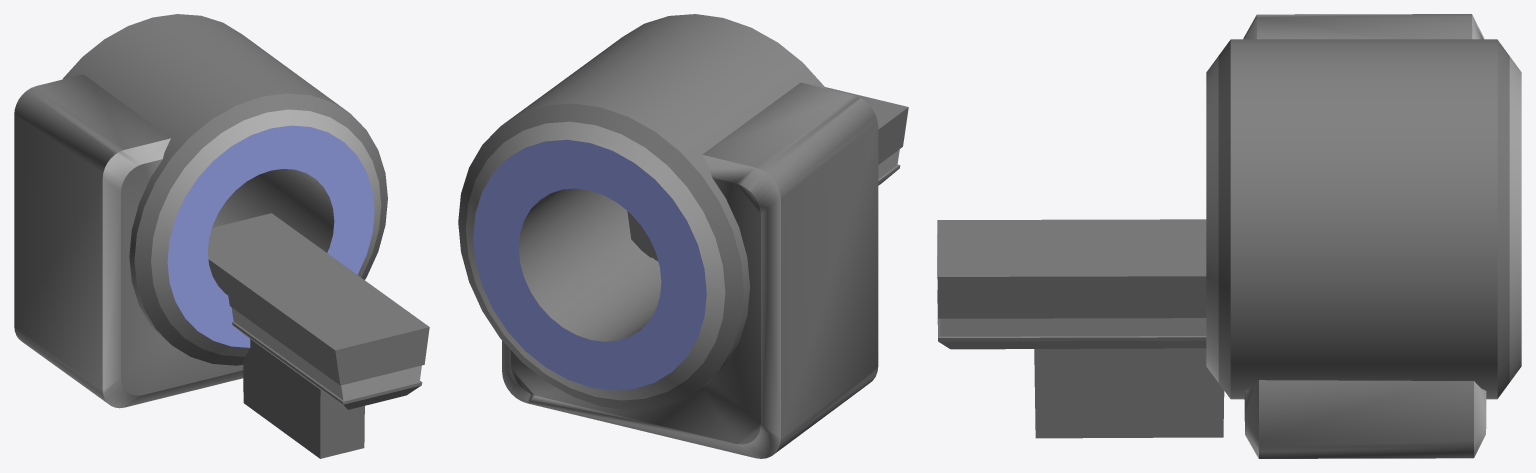
The model's file is MRIMachine.fbx.
The picture shows the model from 3 angles, left to right: view 1: azimuth 30°, elevation 25°; view 2: azimuth 150°, elevation 25°; view 3: azimuth 270°, elevation 25°; orthographic projection. The views are drawn at different scales.
Visible parts, largest first — view 1: propMRIMachine; view 2: propMRIMachine; view 3: propMRIMachine.
Part boxes in pixels (<box>): propMRIMachine: <box>14,14,429,458</box>; propMRIMachine: <box>458,14,908,458</box>; propMRIMachine: <box>937,14,1521,458</box>.
Bounding box in the file's own units: 208 × 215 × 310.
